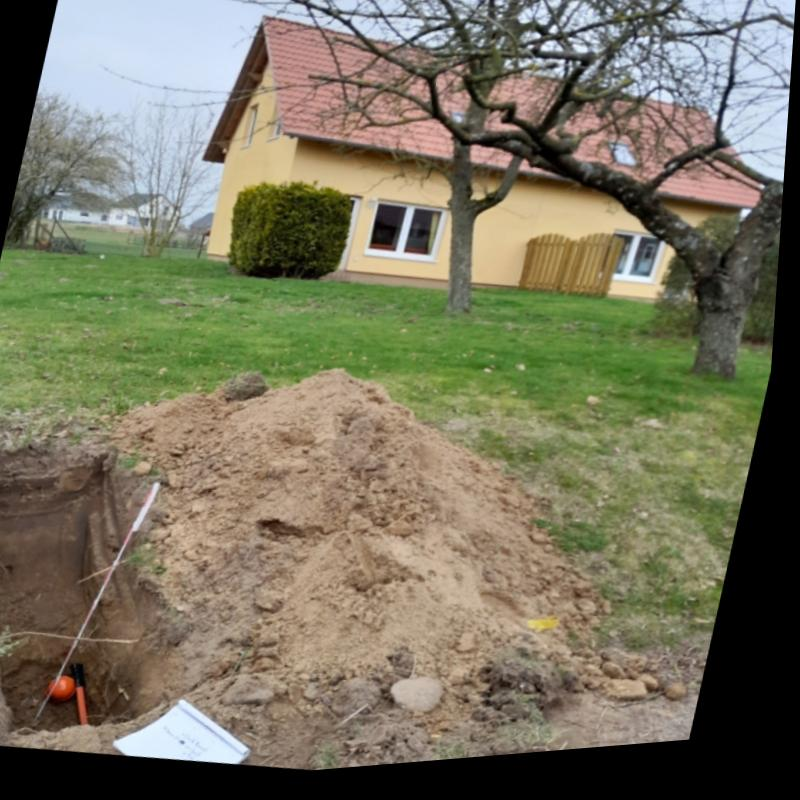Kugelmarker: (54, 677, 85, 703)
Orang-Speednetrohrchen: (79, 665, 99, 727)
